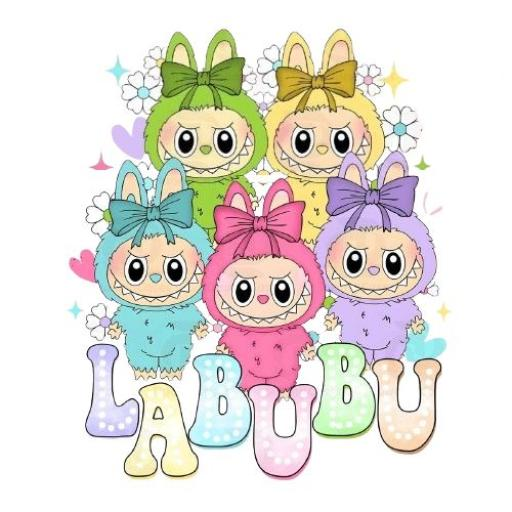labubu: (215, 178, 354, 330), (137, 38, 263, 174), (325, 174, 446, 315), (114, 158, 212, 311), (277, 40, 389, 169)
